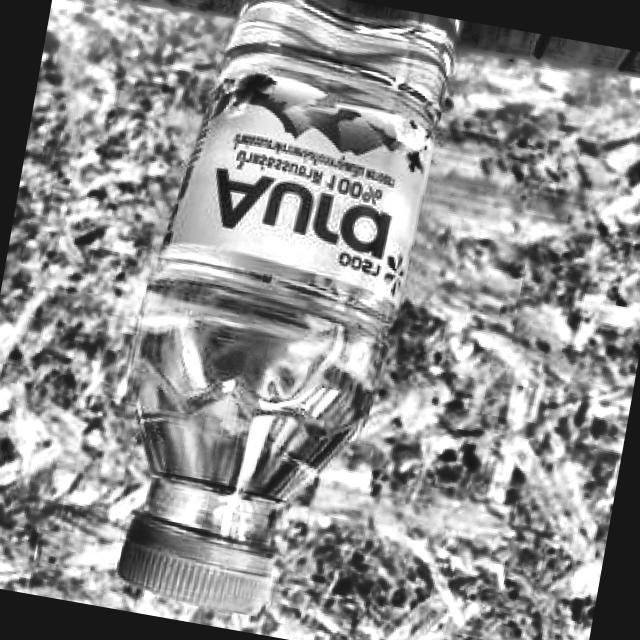waterbottle: (78, 0, 472, 640)
